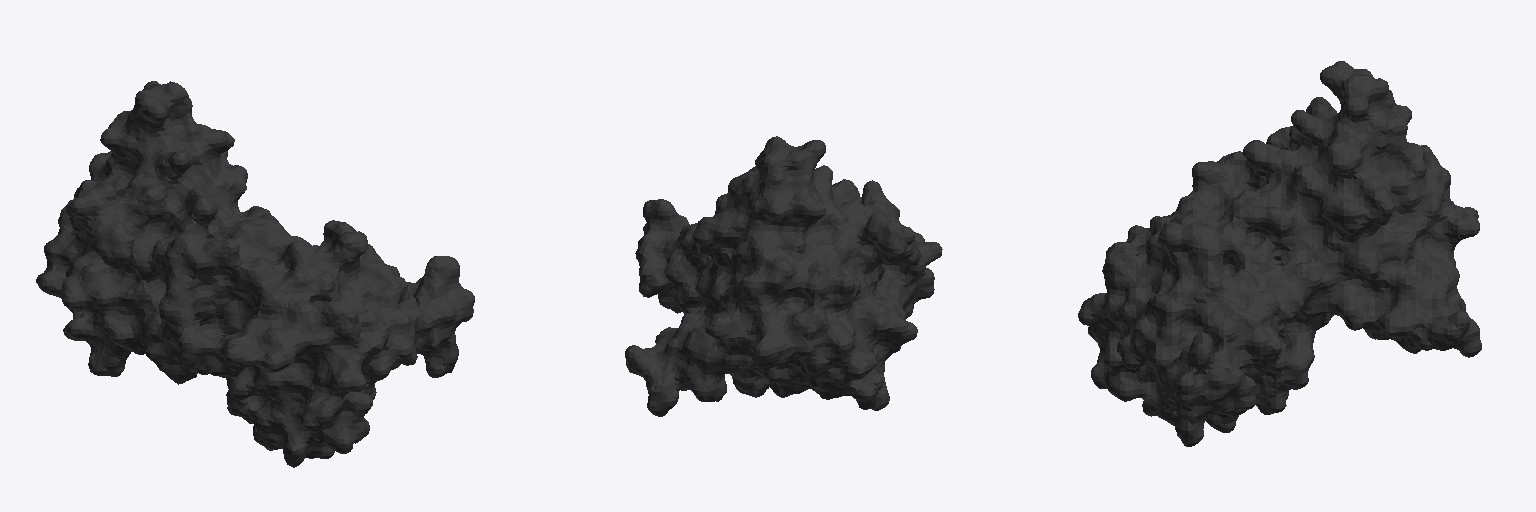
Rendered from explosion.obj.
The picture shows the model from 3 angles: view 1: azimuth 30°, elevation 25°; view 2: azimuth 150°, elevation 25°; view 3: azimuth 270°, elevation 25°; orthographic projection.
Visible parts, largest first — view 1: ShapeIndexedTriangleSet.006_ShapeIndexedTriangleSet; view 2: ShapeIndexedTriangleSet.006_ShapeIndexedTriangleSet; view 3: ShapeIndexedTriangleSet.006_ShapeIndexedTriangleSet.
Part boxes in pixels (left/top/right/bottom): ShapeIndexedTriangleSet.006_ShapeIndexedTriangleSet: left=36, top=81, right=474, bottom=467; ShapeIndexedTriangleSet.006_ShapeIndexedTriangleSet: left=625, top=136, right=942, bottom=416; ShapeIndexedTriangleSet.006_ShapeIndexedTriangleSet: left=1078, top=61, right=1481, bottom=446.
Bounding box in the file's own units: 5.54 × 4.89 × 5.67.